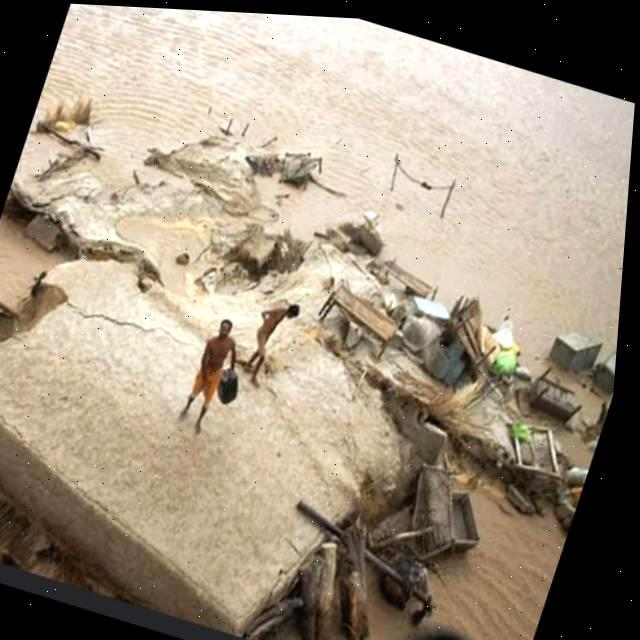civilian: (176, 310, 238, 431), (245, 291, 302, 391)
